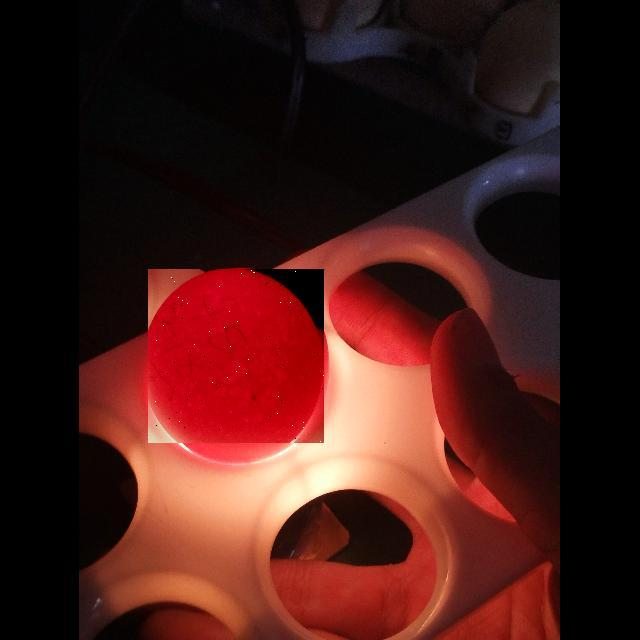Fertile: (148, 269, 324, 443)
